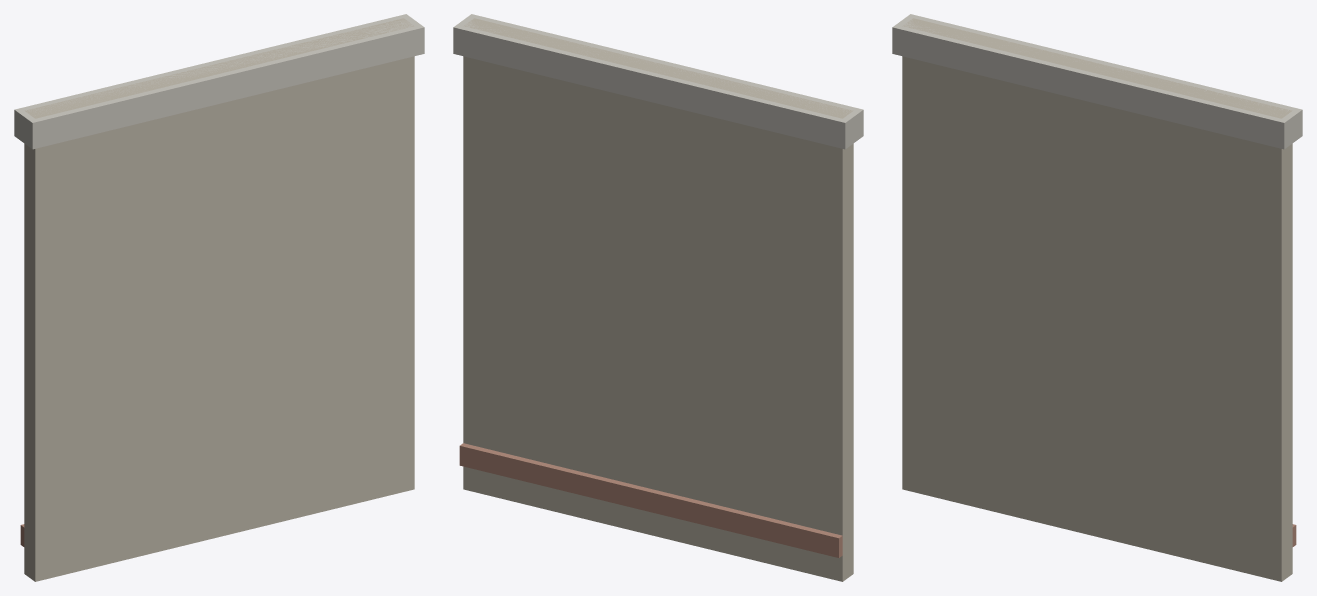
Rendered from iz3_build_defense_steel_wall_01.glb.
3 views of the same model, side by side, from view 1: azimuth 30°, elevation 25°; view 2: azimuth 150°, elevation 25°; view 3: azimuth 330°, elevation 25° (orthographic).
Parts seen in each view (by area): view 1: wall, cornice; view 2: wall, cornice, sill; view 3: wall, cornice.
Part boxes in pixels (x1=…): wall: x1=24, y1=18, x2=414, y2=581; cornice: x1=14, y1=14, x2=424, y2=149; wall: x1=463, y1=18, x2=853, y2=581; cornice: x1=453, y1=14, x2=863, y2=149; sill: x1=459, y1=443, x2=842, y2=557; wall: x1=902, y1=18, x2=1292, y2=581; cornice: x1=892, y1=14, x2=1302, y2=149.
Bounding box in the file's own units: 2.48 × 2.8 × 0.2.
